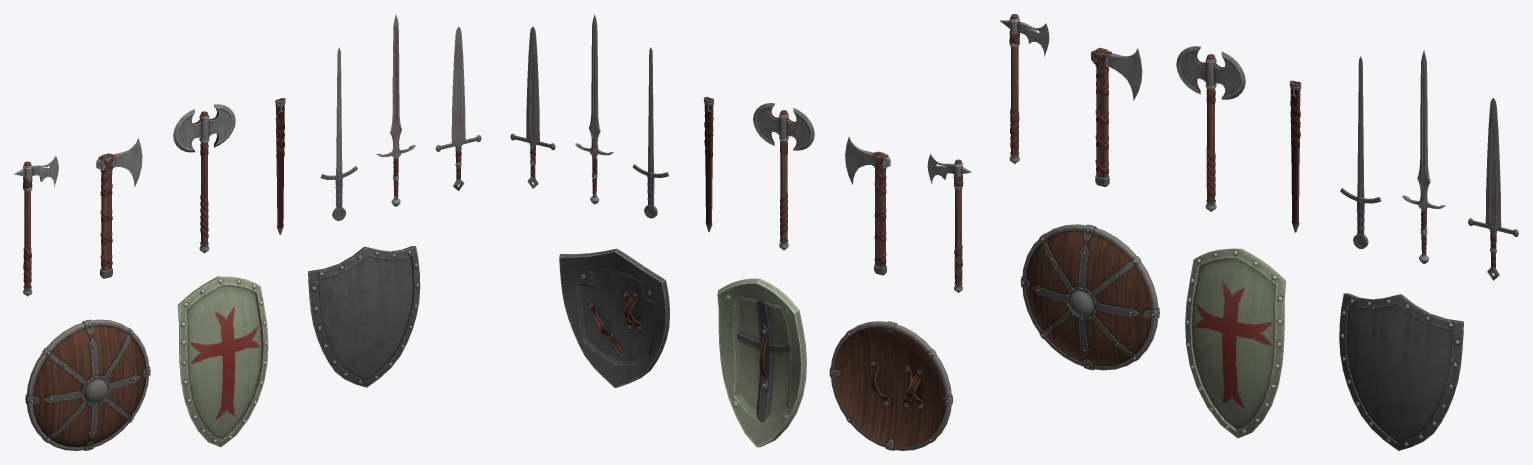
3 views of the same model, side by side, from view 1: azimuth 30°, elevation 25°; view 2: azimuth 150°, elevation 25°; view 3: azimuth 330°, elevation 25° (orthographic). The views are drawn at different scales.
Parts seen in each view (by area): view 1: Shield_02, Shield_01, Shield_03, Axe_01, Axe_02, Sword_03, Axe_03, Sword_02, Sword_01, Sheath; view 2: Shield_02, Shield_01, Shield_03, Axe_01, Axe_02, Sword_03, Axe_03, Sword_02, Sword_01, Sheath; view 3: Shield_02, Shield_01, Shield_03, Axe_01, Axe_02, Sword_03, Axe_03, Sword_02, Sword_01, Sheath.
Boxes of the visible parts, left/top/right/bottom form: Shield_02: left=25, top=319, right=150, bottom=450; Shield_01: left=177, top=276, right=268, bottom=447; Shield_03: left=308, top=246, right=420, bottom=387; Axe_01: left=173, top=104, right=235, bottom=253; Axe_02: left=96, top=138, right=142, bottom=278; Sword_03: left=435, top=26, right=481, bottom=190; Axe_03: left=14, top=156, right=58, bottom=296; Sword_02: left=376, top=14, right=415, bottom=206; Sword_01: left=320, top=47, right=357, bottom=220; Sheath: left=275, top=98, right=285, bottom=234; Shield_02: left=829, top=321, right=952, bottom=450; Shield_01: left=717, top=278, right=806, bottom=447; Shield_03: left=559, top=248, right=669, bottom=387; Axe_01: left=753, top=103, right=814, bottom=250; Axe_02: left=845, top=136, right=890, bottom=275; Sword_03: left=510, top=27, right=555, bottom=188; Axe_03: left=927, top=154, right=971, bottom=292; Sword_02: left=575, top=14, right=613, bottom=204; Sword_01: left=632, top=47, right=669, bottom=218; Sheath: left=703, top=96, right=714, bottom=232; Shield_02: left=1020, top=224, right=1159, bottom=370; Shield_01: left=1185, top=248, right=1285, bottom=438; Shield_03: left=1339, top=293, right=1463, bottom=450; Axe_01: left=1176, top=46, right=1245, bottom=211; Axe_02: left=1091, top=47, right=1142, bottom=186; Sword_03: left=1468, top=98, right=1518, bottom=280; Axe_03: left=1000, top=14, right=1049, bottom=164; Sword_02: left=1402, top=50, right=1445, bottom=263; Sword_01: left=1340, top=56, right=1381, bottom=248; Sheath: left=1289, top=80, right=1301, bottom=232.
Bounding box in the file's own units: 3.07 × 2.48 × 0.2064.
3 materials, 3 textured.
